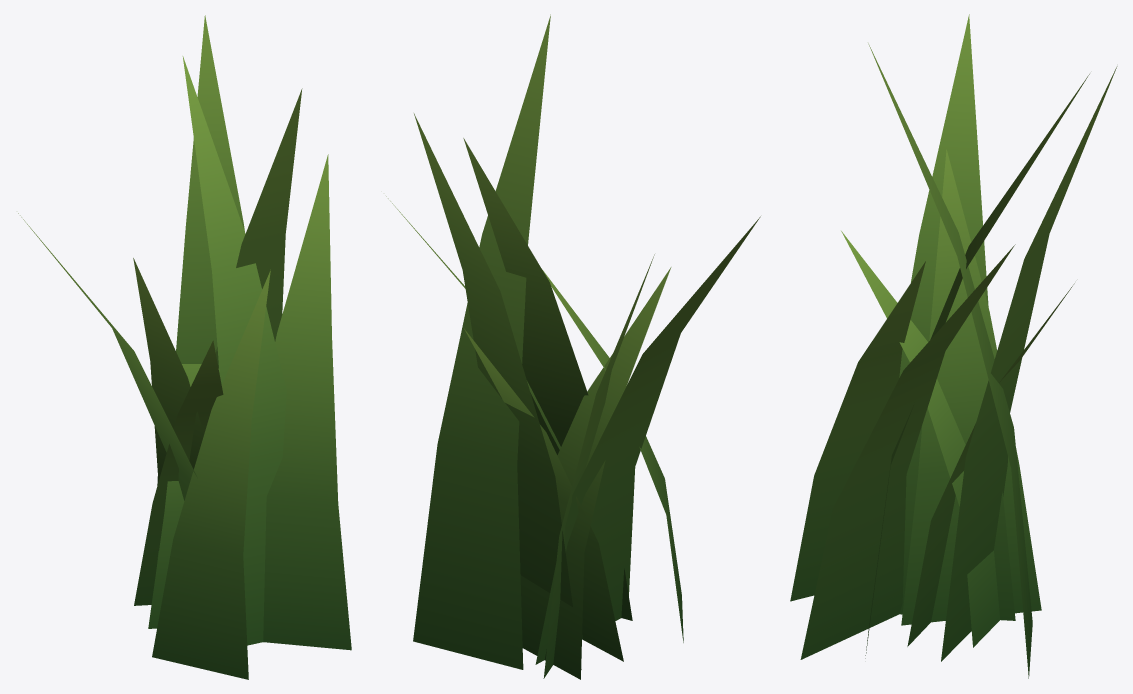
Rendered from Grass_Clump.fbx.
3 renders of one model, left to right at view 1: azimuth 30°, elevation 25°; view 2: azimuth 150°, elevation 25°; view 3: azimuth 270°, elevation 25°, orthographic. The views are drawn at different scales.
Visible parts, largest first — view 1: Grass_Clump; view 2: Grass_Clump; view 3: Grass_Clump.
Part boxes in pixels (<box>): Grass_Clump: <box>18,15,351,679</box>; Grass_Clump: <box>386,14,760,679</box>; Grass_Clump: <box>790,14,1117,678</box>.
Bounding box in the file's own units: 0.3527 × 0.5491 × 0.2683.
